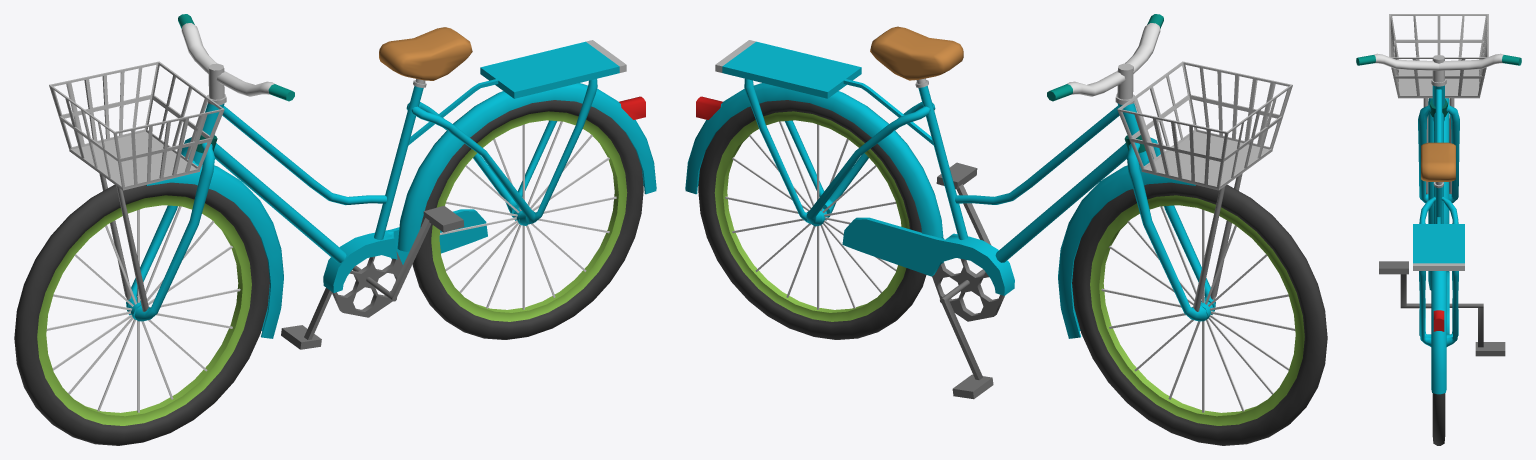
Rendered from Bicycle01.fbx.
The picture shows the model from 3 angles, left to right: view 1: azimuth 30°, elevation 25°; view 2: azimuth 150°, elevation 25°; view 3: azimuth 270°, elevation 25°; orthographic projection. The views are drawn at different scales.
Visible parts, largest first — view 1: Bicycle01; view 2: Bicycle01; view 3: Bicycle01.
Part boxes in pixels (<box>): Bicycle01: <box>14,14,656,445</box>; Bicycle01: <box>685,14,1327,445</box>; Bicycle01: <box>1356,14,1521,445</box>.
Bounding box in the file's own units: 5.05 × 1.48 × 2.76.
